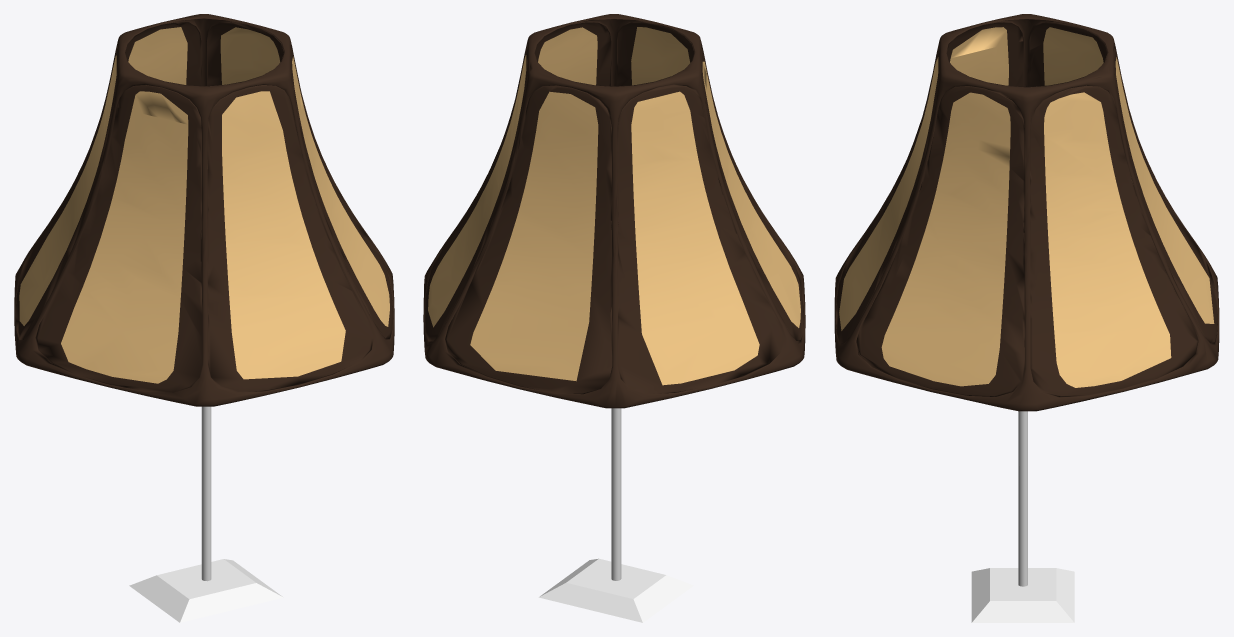
Rendered from lampara_mesa_principal.FBX.
The picture shows the model from 3 angles, left to right: view 1: azimuth 30°, elevation 25°; view 2: azimuth 150°, elevation 25°; view 3: azimuth 270°, elevation 25°; orthographic projection.
Parts seen in each view (by area): view 1: objNGon06, Box488, Cylinder023; view 2: objNGon06, Box488, Cylinder023; view 3: objNGon06, Box488, Cylinder023.
Part boxes in pixels (<box>): objNGon06: <box>14,14,394,406</box>; Box488: <box>129,559,283,622</box>; Cylinder023: <box>201,406,211,581</box>; objNGon06: <box>423,14,805,408</box>; Box488: <box>538,558,693,622</box>; Cylinder023: <box>611,408,621,580</box>; objNGon06: <box>834,14,1219,411</box>; Box488: <box>971,568,1074,622</box>; Cylinder023: <box>1018,411,1027,586</box>.
Bounding box in the file's own units: 11.16 × 15.46 × 9.9.
